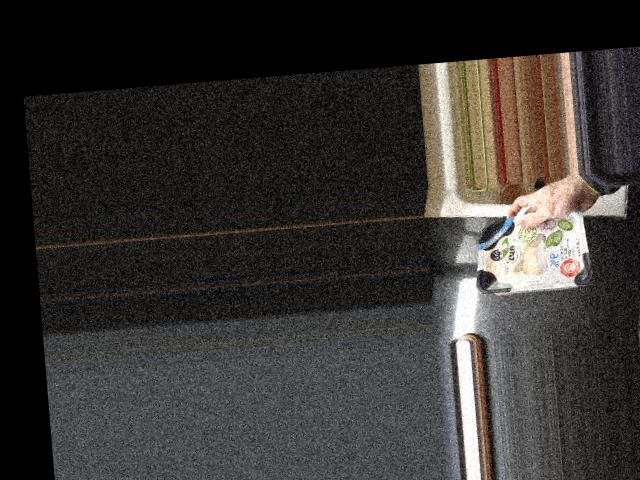cheese: (473, 200, 593, 294)
